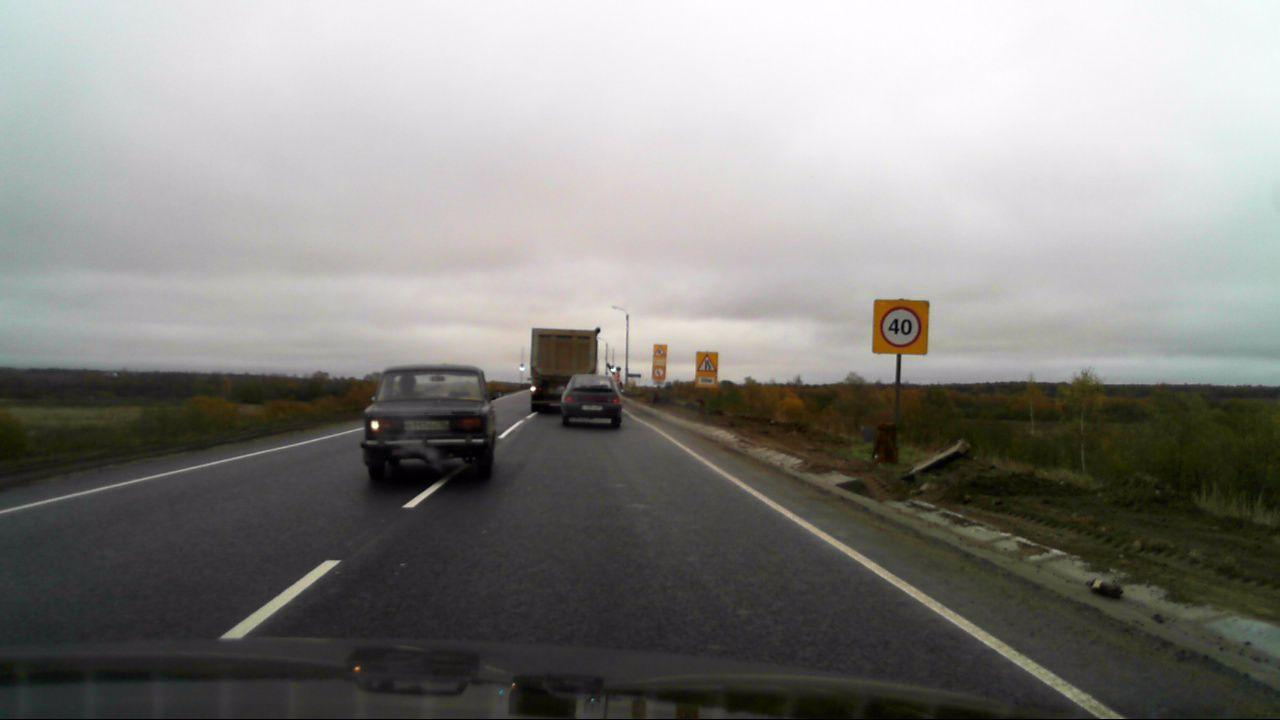1_20_2: (696, 352, 717, 374)
1_25: (654, 345, 665, 358)
2_6: (654, 367, 664, 377)
3_24: (880, 304, 924, 348)
8_1_1: (699, 377, 716, 385)
